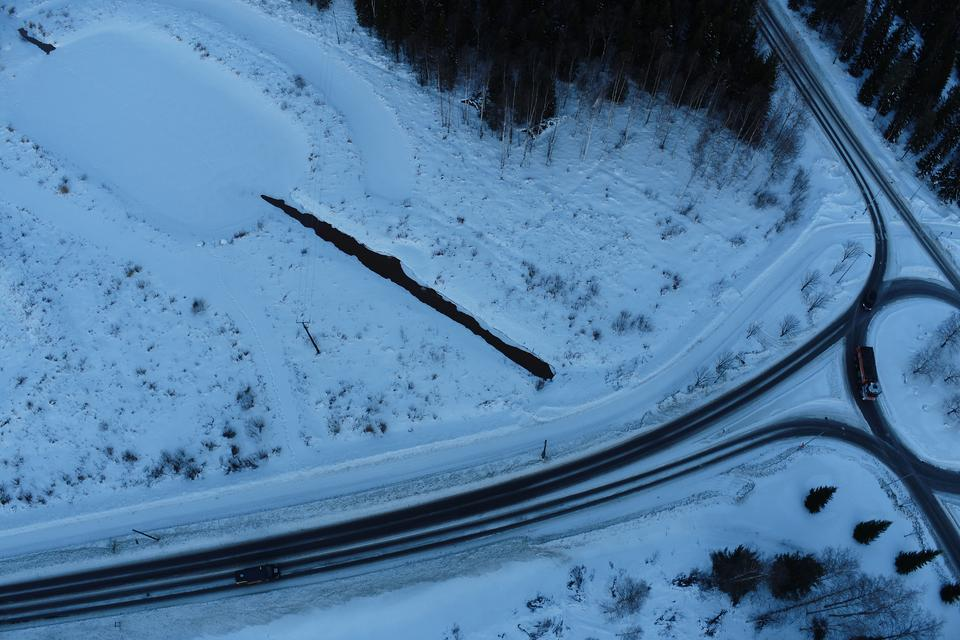intersection: (851, 210, 954, 250)
roundabout: (813, 257, 960, 552)
